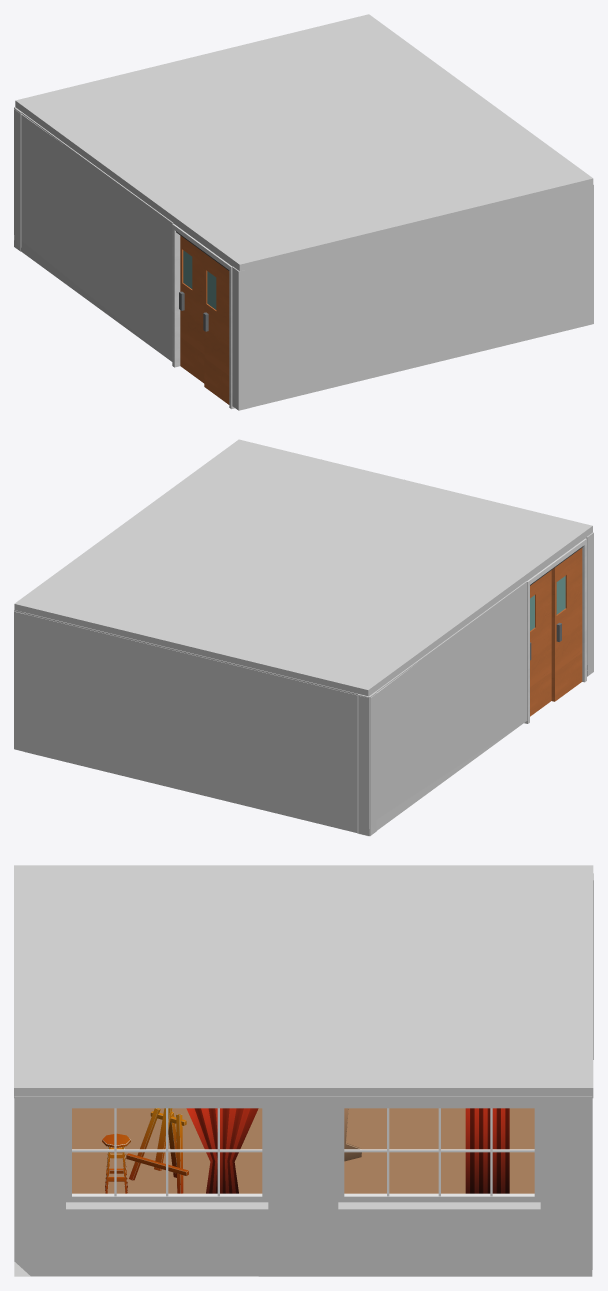
The model's file is art_classroom_glb.glb.
3 renders of one model, top to bottom at view 1: azimuth 30°, elevation 25°; view 2: azimuth 150°, elevation 25°; view 3: azimuth 270°, elevation 25°, orthographic. The views are drawn at different scales.
Visible parts, largest first — view 1: ceiling, wallfloorartroom, column.002, ClassRoomDoor_8.001, ClassRoomDoor_10.001, column.001, DoorClassroom_1, column.004; view 2: ceiling, column.003, column.002, ClassRoomDoor_8.001, ClassRoomDoor_10.001, DoorClassroom_1, column.005, column.004, column.001; view 3: ceiling, wallfloorartroom, curtains, curtains.002, column.005, easel.004, stool.003.
Part boxes in pixels (<box>): ceiling: <box>14,14,593,271</box>; wallfloorartroom: <box>250,184,593,407</box>; column.002: <box>14,107,173,361</box>; ClassRoomDoor_8.001: <box>203,253,229,404</box>; ClassRoomDoor_10.001: <box>179,235,204,383</box>; column.001: <box>232,266,249,410</box>; DoorClassroom_1: <box>172,224,234,409</box>; column.004: <box>14,107,21,251</box>; ceiling: <box>14,439,592,697</box>; column.003: <box>24,612,362,833</box>; column.002: <box>357,581,527,836</box>; ClassRoomDoor_8.001: <box>551,548,582,701</box>; ClassRoomDoor_10.001: <box>530,570,551,716</box>; DoorClassroom_1: <box>524,538,586,723</box>; column.005: <box>14,610,24,751</box>; column.004: <box>369,692,376,835</box>; column.001: <box>586,532,593,676</box>; ceiling: <box>14,865,593,1098</box>; wallfloorartroom: <box>14,1096,575,1276</box>; curtains: <box>465,1108,509,1193</box>; curtains.002: <box>186,1108,258,1193</box>; column.005: <box>575,1096,592,1276</box>; easel.004: <box>126,1108,188,1193</box>; stool.003: <box>102,1133,130,1193</box>.
Bounding box in the file's own units: 9.48 × 3.8 × 10.36.
Materials: 12 (11 with a texture image).
